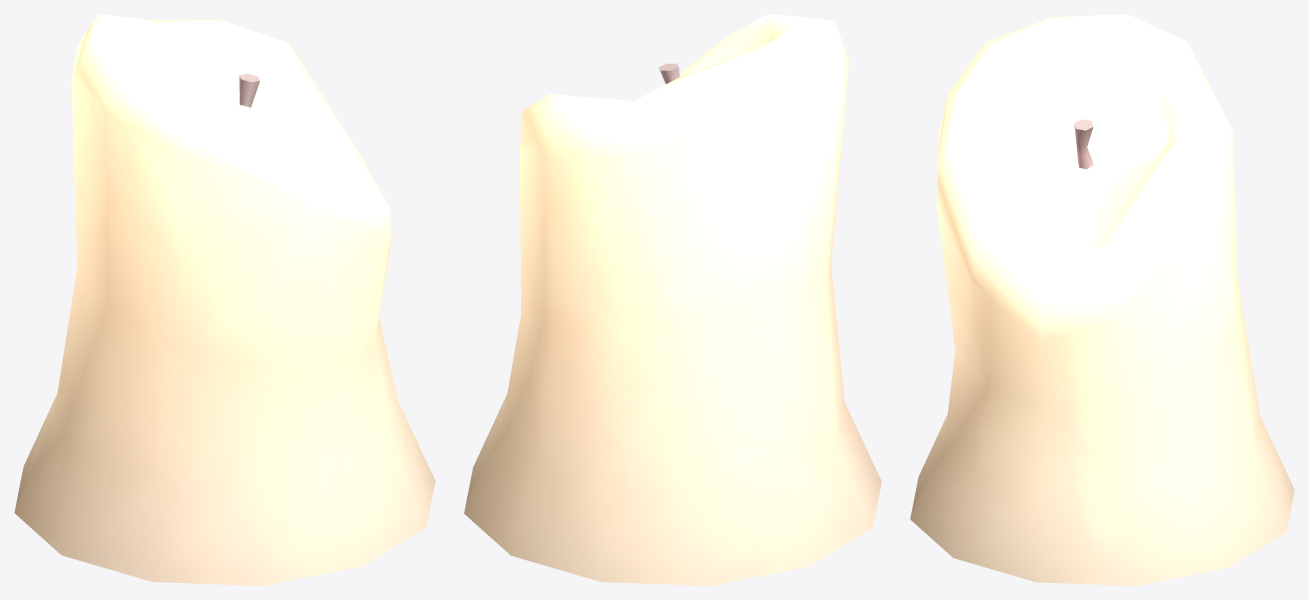
File: SM_Small_Candle.fbx
The picture shows the model from 3 angles, left to right: view 1: azimuth 30°, elevation 25°; view 2: azimuth 150°, elevation 25°; view 3: azimuth 270°, elevation 25°; orthographic projection. The views are drawn at different scales.
Visible parts, largest first — view 1: SM_Small_Candle_LOD0; view 2: SM_Small_Candle_LOD0; view 3: SM_Small_Candle_LOD0.
Part boxes in pixels (x1=…): SM_Small_Candle_LOD0: x1=14, y1=14, x2=435, y2=585; SM_Small_Candle_LOD0: x1=464, y1=14, x2=881, y2=585; SM_Small_Candle_LOD0: x1=910, y1=14, x2=1294, y2=585.
Bounding box in the file's own units: 13.33 × 13.33 × 16.74.
